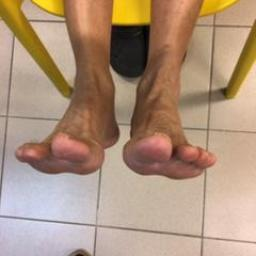Front View -Both Feet-: (6, 40, 228, 202)
